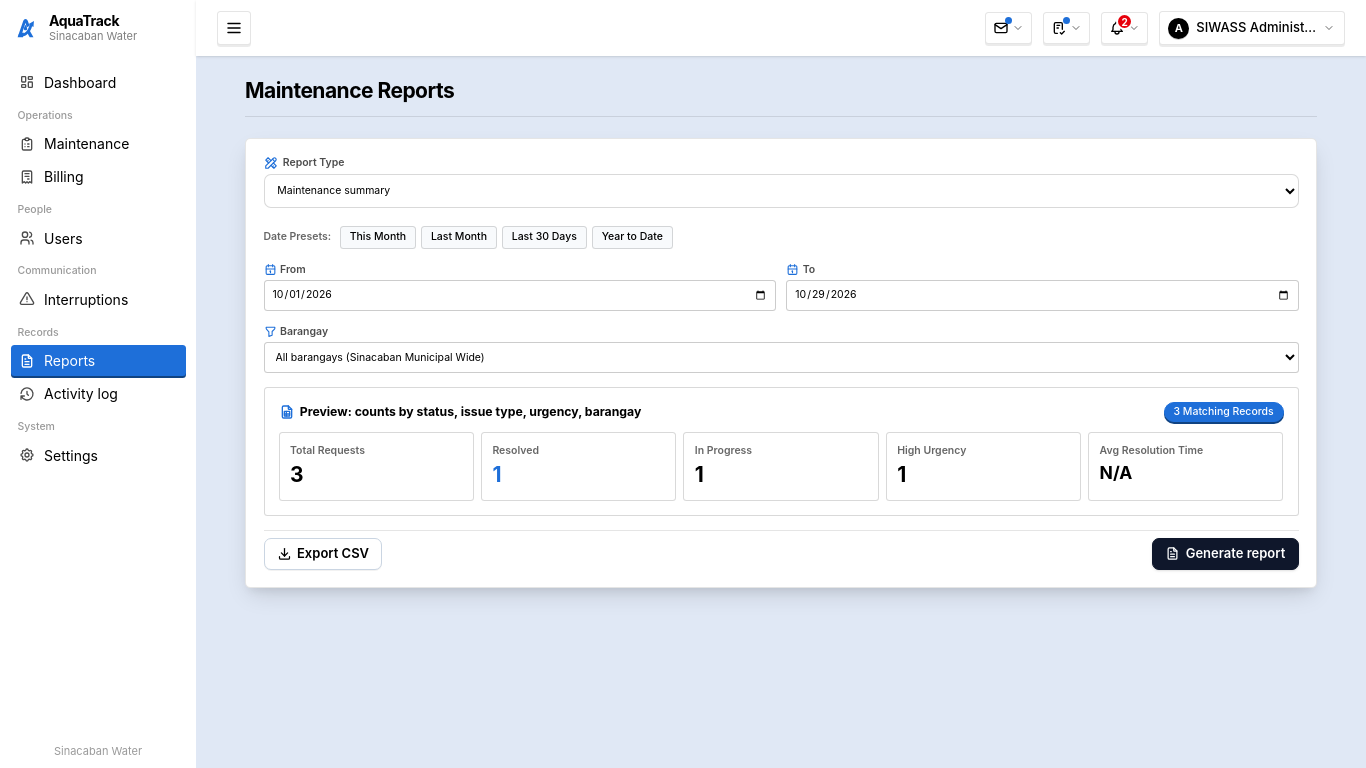
Scenario: AdminReportsView (Section 10 & Revised PDF Output Workflow) › enforces date constraints: From cannot be later than To, and dates cannot be in future
// Set From later than To
Step 1. Type "2026-10-25" into the date field labelled "From" → (520, 295), box [264, 280, 776, 310]
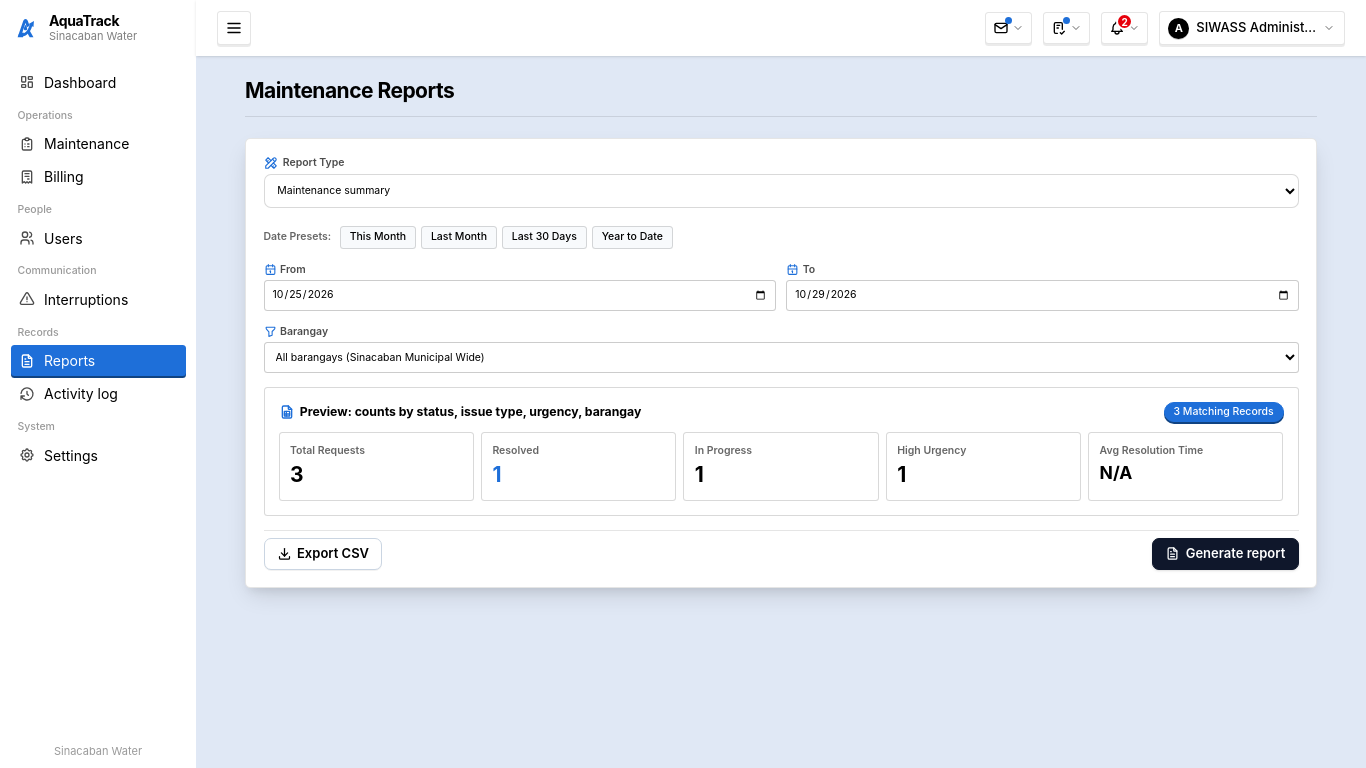
Step 2. Type "2026-10-20" into the date field labelled "To" → (1042, 295), box [786, 280, 1299, 310]
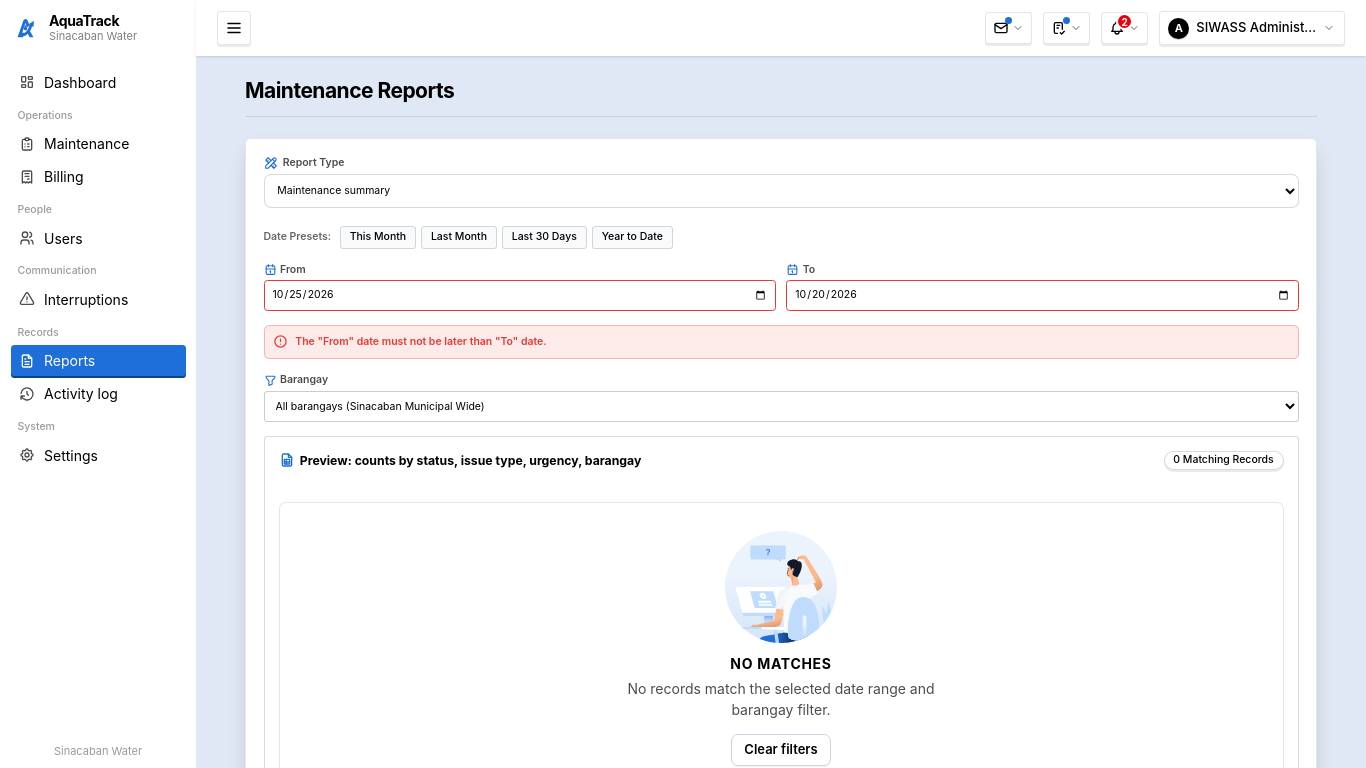
Expected: the text "The \"From\" date must not be later than \"To\" date." is shown, [295, 335, 547, 349]
// Set future date
Step 3. Type "2099-12-31" into the date field labelled "To" → (1042, 295), box [786, 280, 1299, 310]
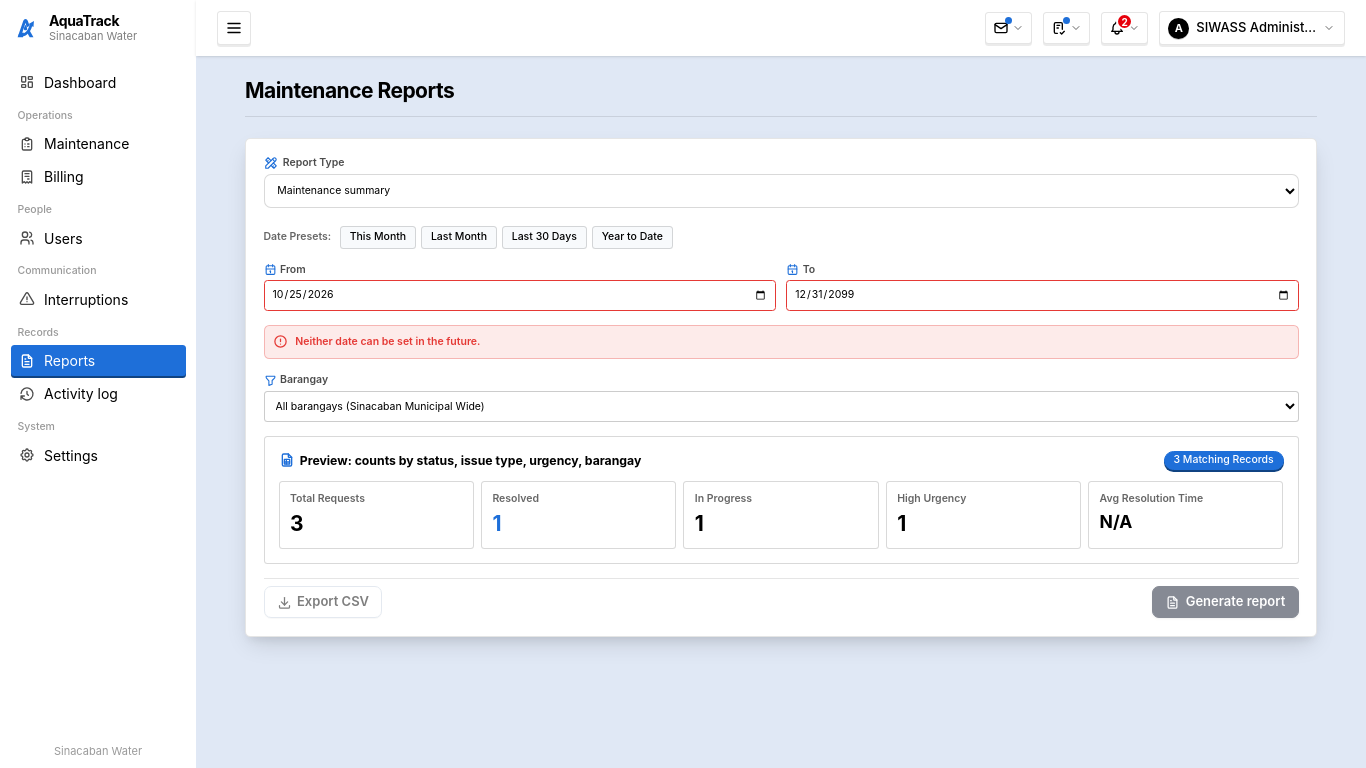
Expected: the button "Generate report" is disabled, [1152, 586, 1298, 618]
Expected: the button "Export CSV" is disabled, [264, 586, 382, 618]
Expected: the text "Neither date can be set in the future." is shown, [295, 335, 480, 349]
